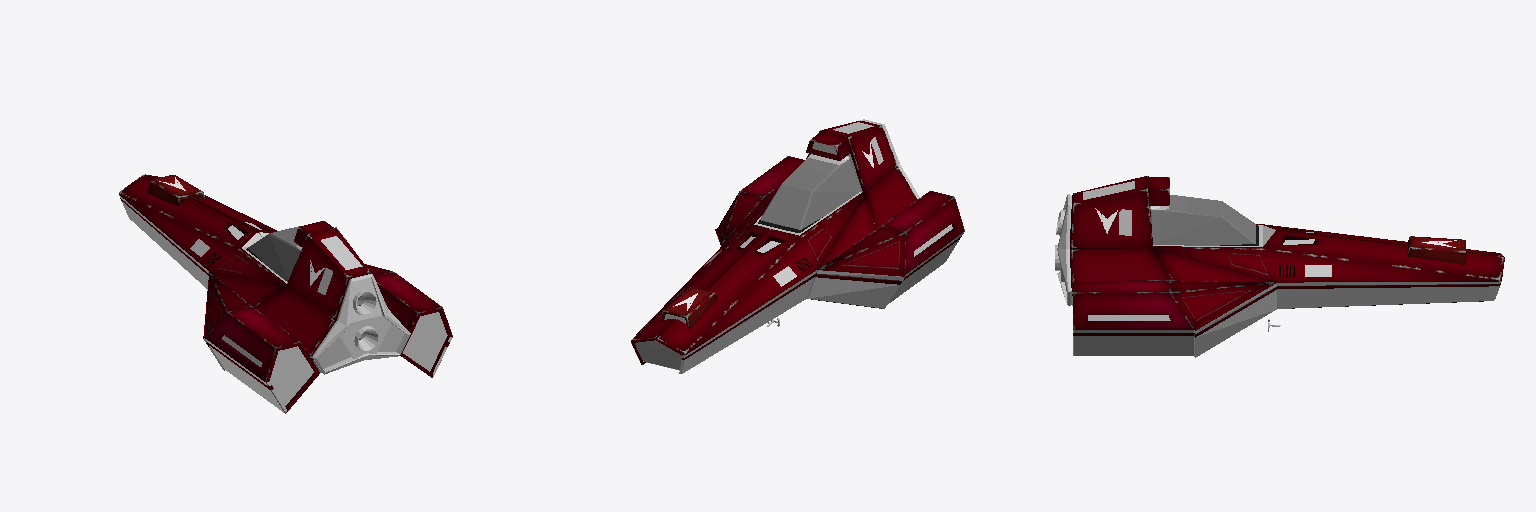
3 renders of one model, left to right at view 1: azimuth 30°, elevation 25°; view 2: azimuth 150°, elevation 25°; view 3: azimuth 270°, elevation 25°, orthographic.
Visible parts, largest first — view 1: 21_queenmeteor_a; view 2: 21_queenmeteor_a; view 3: 21_queenmeteor_a.
Boxes of the visible parts, <box> form: 21_queenmeteor_a: <box>119,174,452,413</box>; 21_queenmeteor_a: <box>631,119,964,373</box>; 21_queenmeteor_a: <box>1055,176,1504,357</box>.
Size of the model in its own units: 2.27 by 1.69 by 4.66.
Materials: 25 (5 with a texture image).